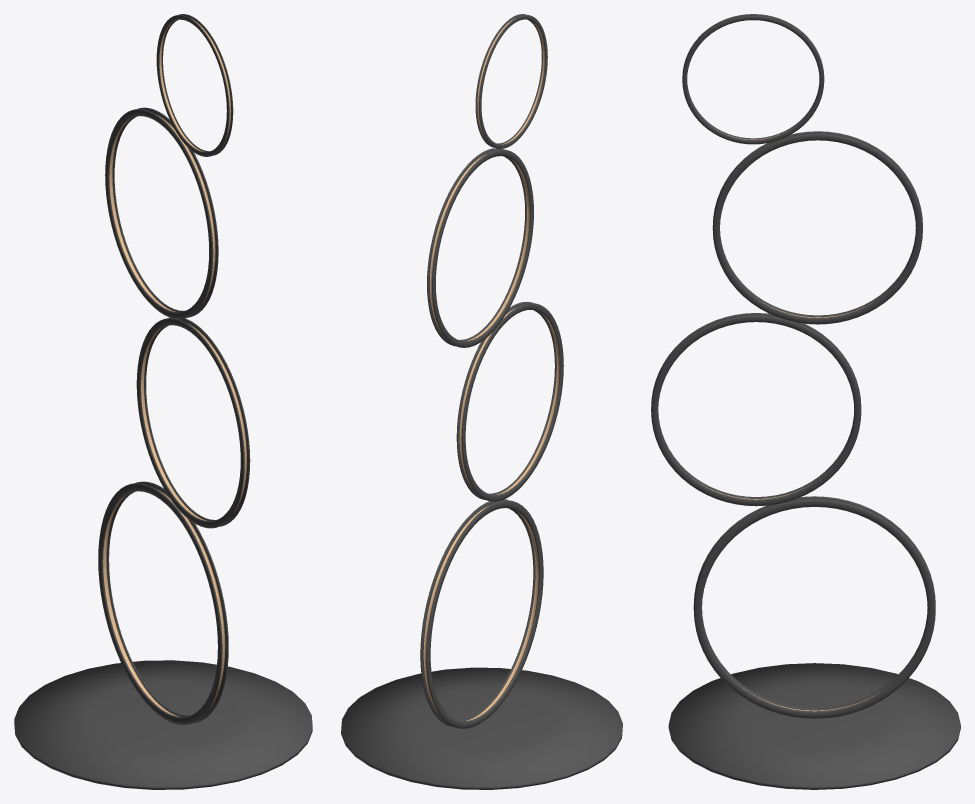
File: standinhglamp.fbx
The picture shows the model from 3 angles, left to right: view 1: azimuth 30°, elevation 25°; view 2: azimuth 150°, elevation 25°; view 3: azimuth 270°, elevation 25°; orthographic projection. The views are drawn at different scales.
Visible parts, largest first — view 1: Circle, Circle.001, Circle.002, Circle.003, Circle.004; view 2: Circle, Circle.001, Circle.003, Circle.002, Circle.004; view 3: Circle, Circle.001, Circle.003, Circle.002, Circle.004.
Part boxes in pixels (left/top/right/bottom): Circle: left=14, top=660, right=312, bottom=789; Circle.001: left=98, top=481, right=228, bottom=725; Circle.002: left=136, top=317, right=250, bottom=528; Circle.003: left=105, top=107, right=218, bottom=319; Circle.004: left=156, top=14, right=233, bottom=156; Circle: left=341, top=667, right=622, bottom=789; Circle.001: left=420, top=499, right=543, bottom=728; Circle.003: left=427, top=148, right=533, bottom=347; Circle.002: left=456, top=302, right=563, bottom=501; Circle.004: left=475, top=14, right=547, bottom=148; Circle: left=668, top=663, right=960, bottom=789; Circle.001: left=693, top=496, right=935, bottom=718; Circle.003: left=712, top=131, right=922, bottom=324; Circle.002: left=651, top=313, right=861, bottom=506; Circle.004: left=682, top=14, right=824, bottom=144.
Bounding box in the file's own units: 200 × 539 × 212.
